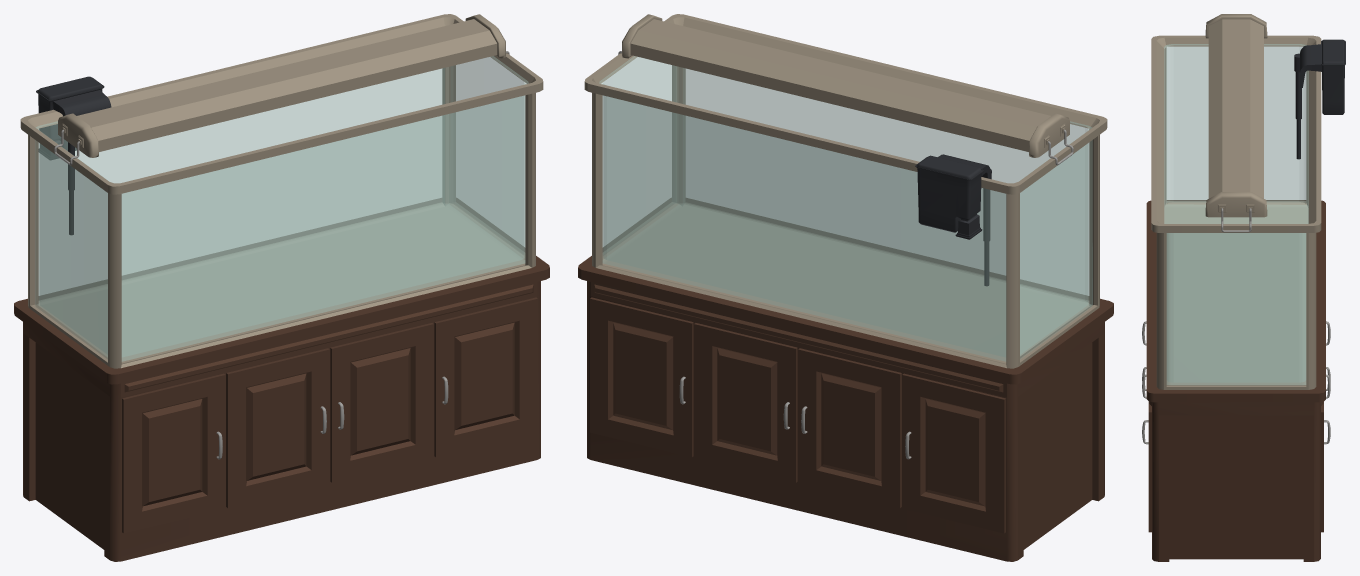
The model's file is fishtank_model.fbx.
3 views of the same model, side by side, from view 1: azimuth 30°, elevation 25°; view 2: azimuth 150°, elevation 25°; view 3: azimuth 270°, elevation 25° (orthographic). The views are drawn at different scales.
Visible parts, largest first — view 1: fish_tank_model; view 2: fish_tank_model; view 3: fish_tank_model.
Boxes of the visible parts, box(x1,y1,x2,y2) form: fish_tank_model: box(14, 14, 549, 561); fish_tank_model: box(578, 14, 1113, 561); fish_tank_model: box(1142, 14, 1345, 561).
Bounding box in the file's own units: 1.79 × 1.57 × 0.7957.
